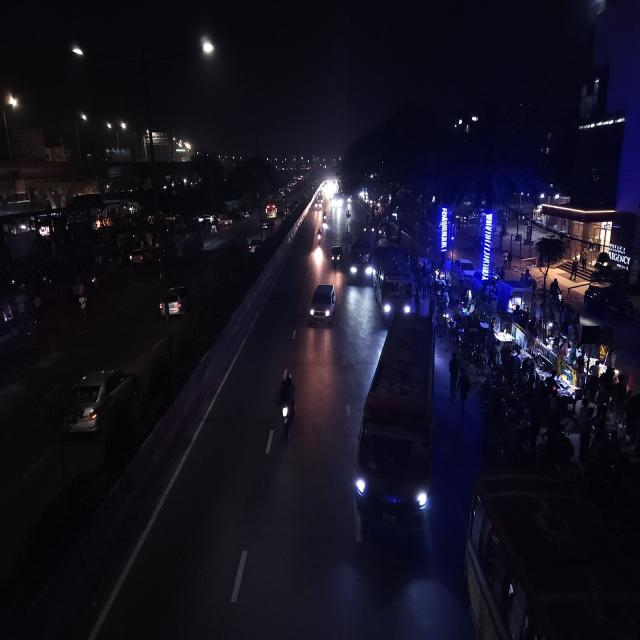bus: (461, 466, 639, 640), (354, 311, 442, 547), (373, 246, 415, 326), (167, 220, 205, 263), (348, 229, 373, 287)
car: (57, 364, 138, 439), (308, 281, 338, 332), (157, 282, 193, 322), (454, 256, 474, 282), (245, 234, 264, 260), (127, 244, 147, 267), (260, 216, 271, 232)
cng: (330, 243, 344, 275), (416, 253, 430, 275)
motorcycle: (273, 366, 299, 443), (315, 226, 323, 248)
pedestrian: (446, 347, 462, 399)
